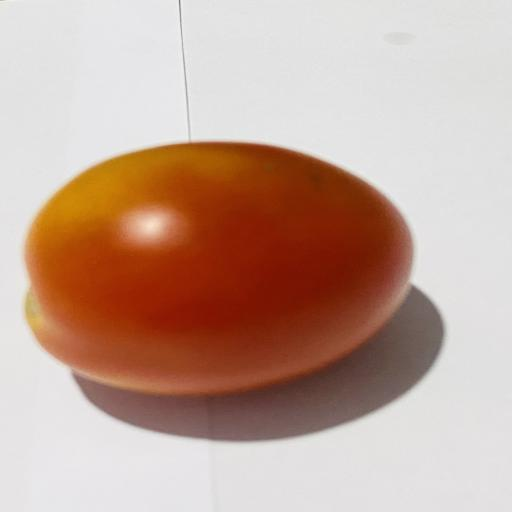ripe: (25, 142, 413, 395)
